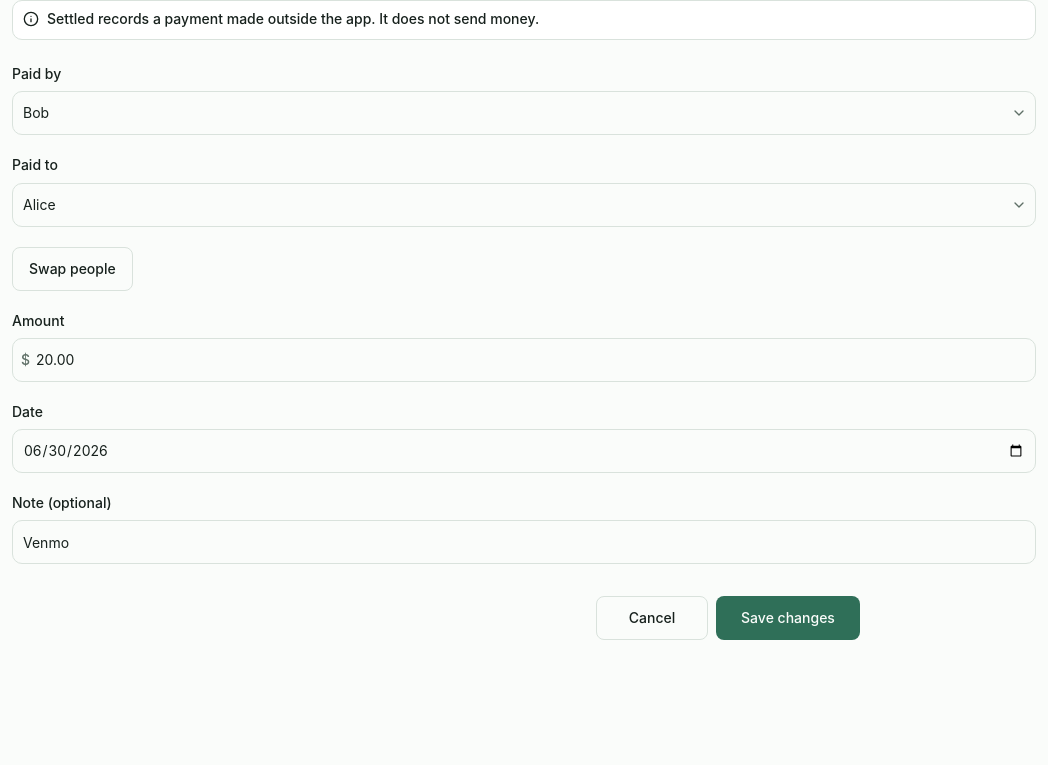
Test: RepaymentForm › maps every documented 422 field, keeps unknown keys visible, and focuses sender first
Click the button "Save changes" at (788, 618), box 716,596 -> 860,640
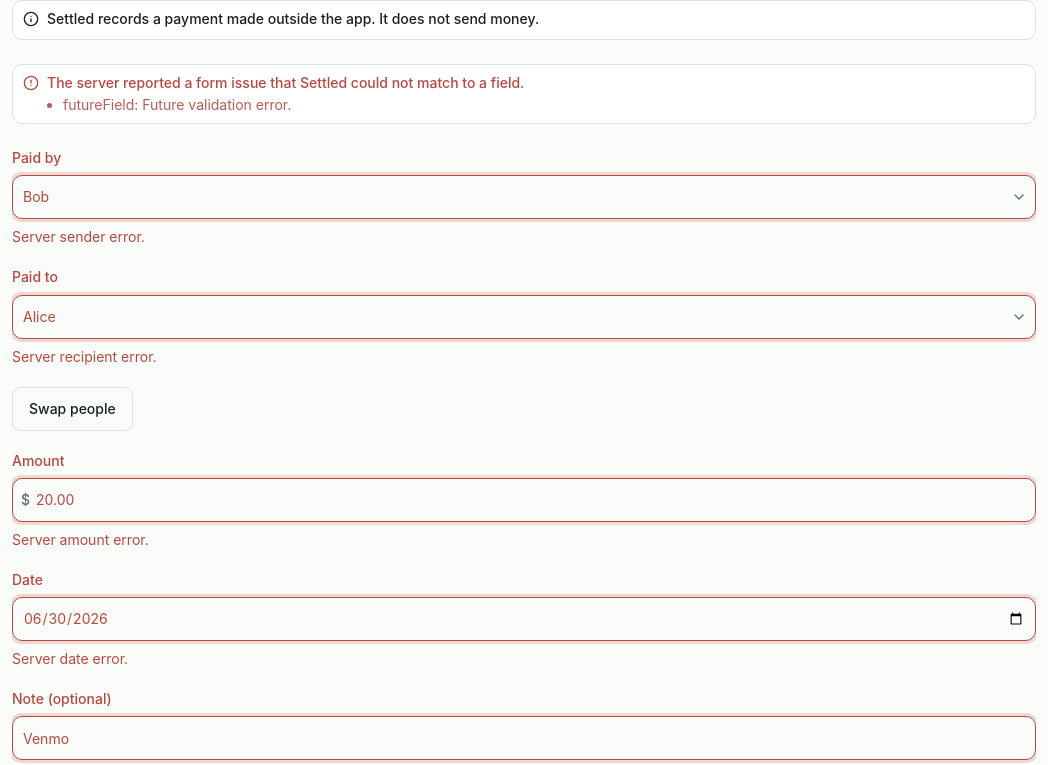
Result: the text "Server sender error." is shown at 12,228 -> 145,245
Result: the text "Server recipient error." is shown at 12,348 -> 157,364
Result: the text "Server amount error." is shown at 12,531 -> 149,548
Click the button "Swap people" at (72, 408), box 12,386 -> 133,430
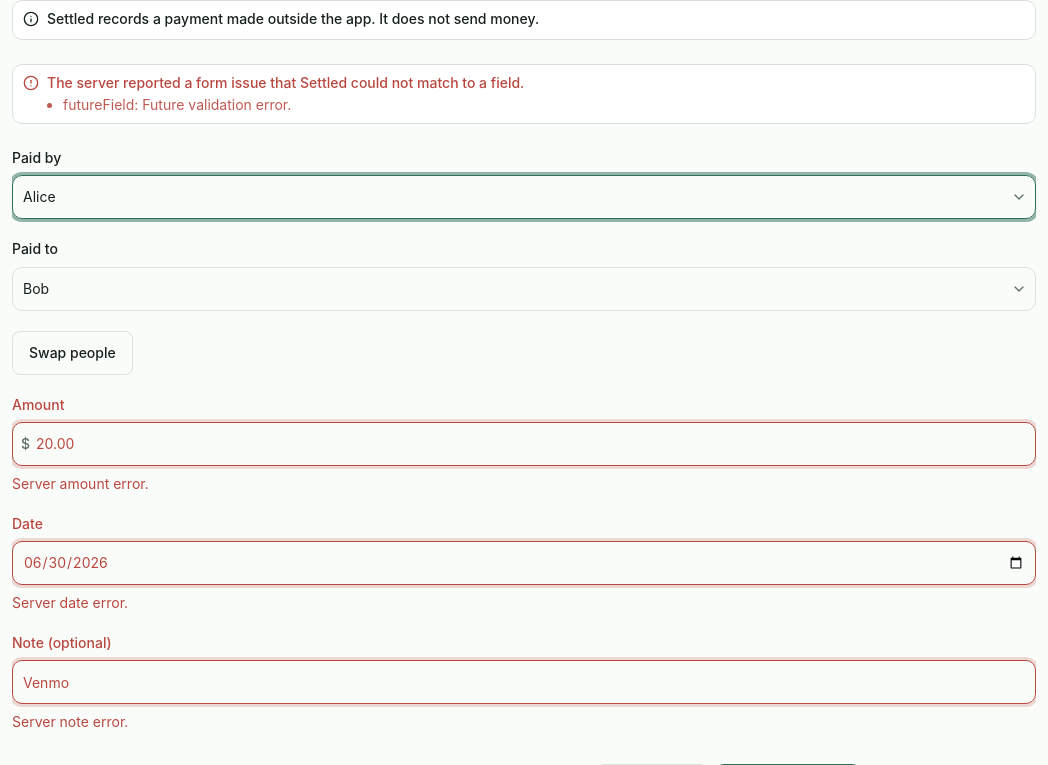
Result: the text "Server sender error." is gone
Result: the text "Server recipient error." is gone
